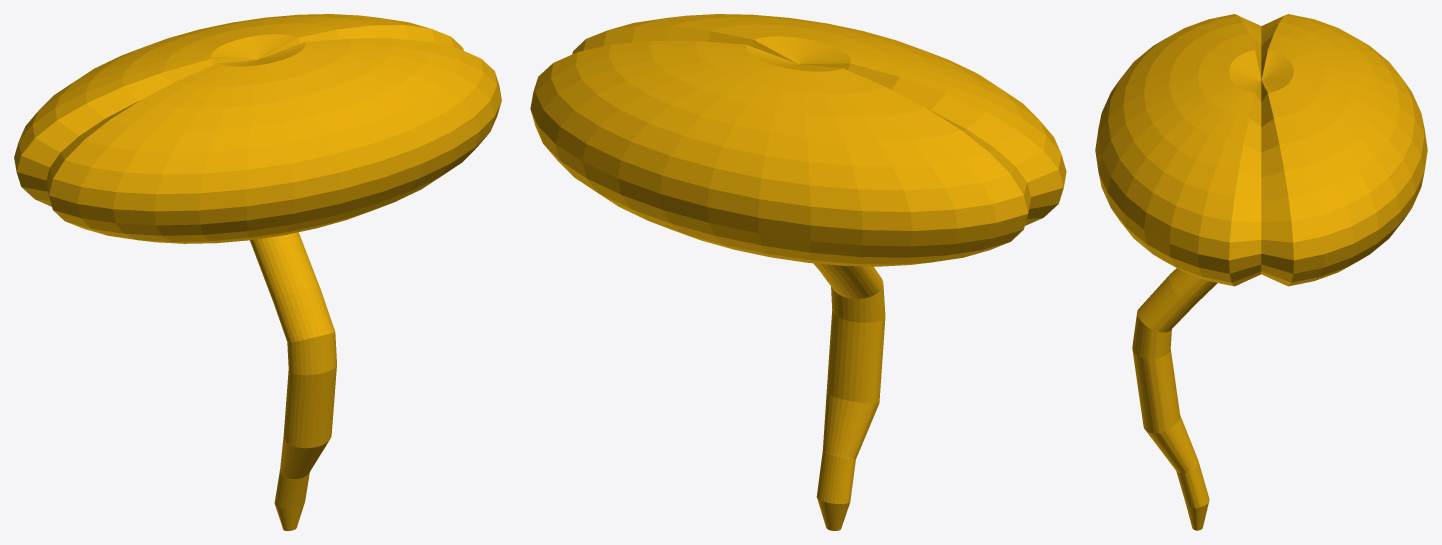
Rendered from seedHalf.fbx.
3 views of the same model, side by side, from view 1: azimuth 30°, elevation 25°; view 2: azimuth 150°, elevation 25°; view 3: azimuth 270°, elevation 25° (orthographic). The views are drawn at different scales.
Visible parts, largest first — view 1: seed.001; view 2: seed.001; view 3: seed.001.
Boxes of the visible parts, x1,y1,x2,y2 form: seed.001: (14,14,501,530); seed.001: (530,14,1066,530); seed.001: (1095,14,1427,530).
Bounding box in the file's own units: 2.29 × 2.21 × 1.46.
